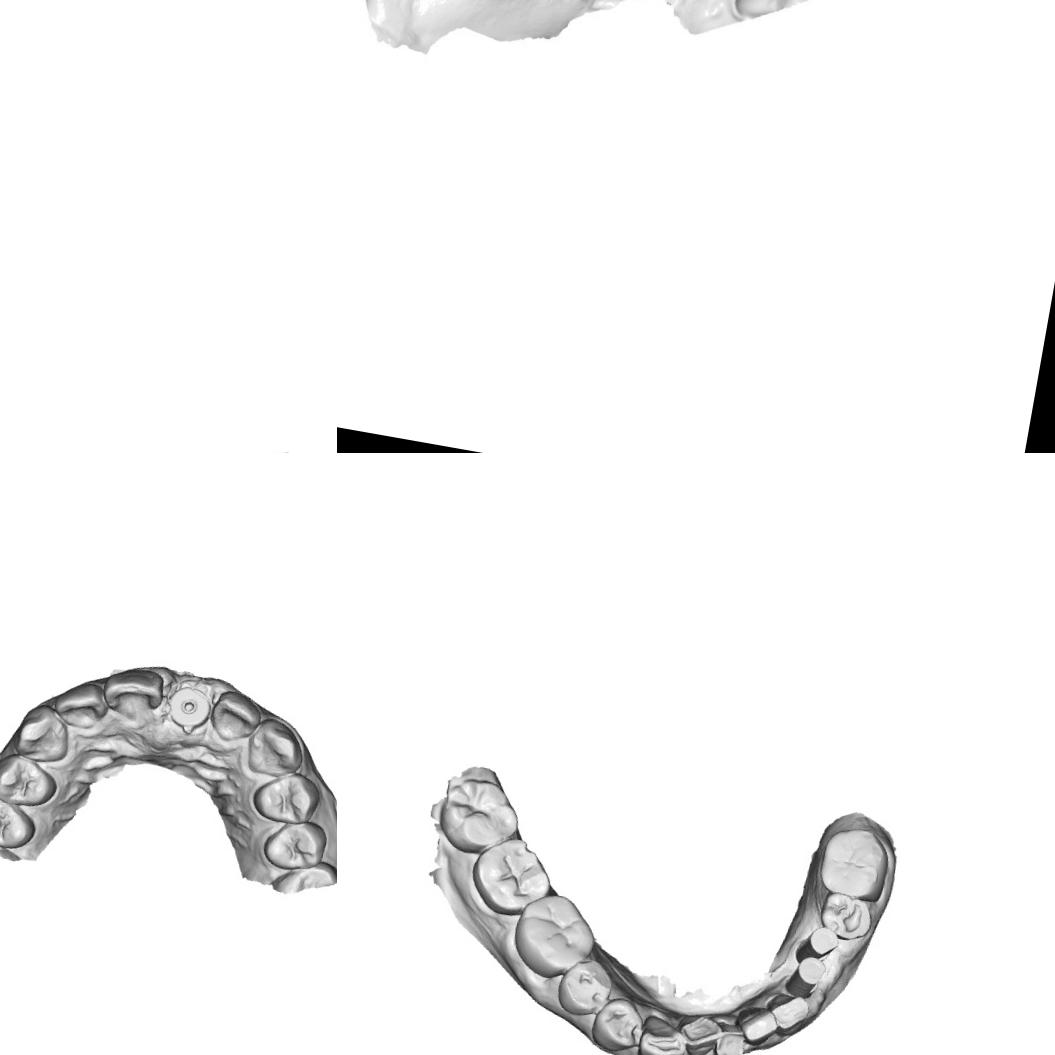abutment: (780, 948, 826, 1003), (791, 921, 842, 969)
canine: (5, 696, 76, 766), (242, 714, 308, 784), (632, 1010, 691, 1055)
implant: (164, 680, 214, 732)
incisor: (204, 684, 268, 747), (98, 661, 166, 718), (48, 674, 109, 732), (729, 0, 820, 32), (759, 988, 811, 1038), (732, 1001, 778, 1052), (679, 1005, 723, 1055), (710, 1020, 754, 1055)
molar: (505, 884, 605, 986), (463, 828, 560, 922), (433, 771, 527, 863), (814, 821, 894, 904)
premolar: (247, 764, 324, 830), (255, 812, 329, 879), (552, 952, 616, 1022), (582, 990, 645, 1055), (0, 749, 63, 813), (814, 887, 880, 946), (0, 790, 39, 855)
